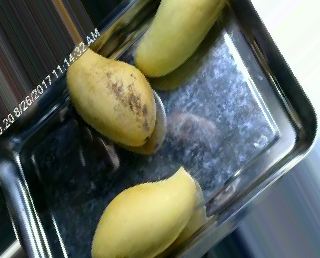Mango: (88, 164, 194, 258), (66, 47, 155, 145), (134, 0, 229, 75)
